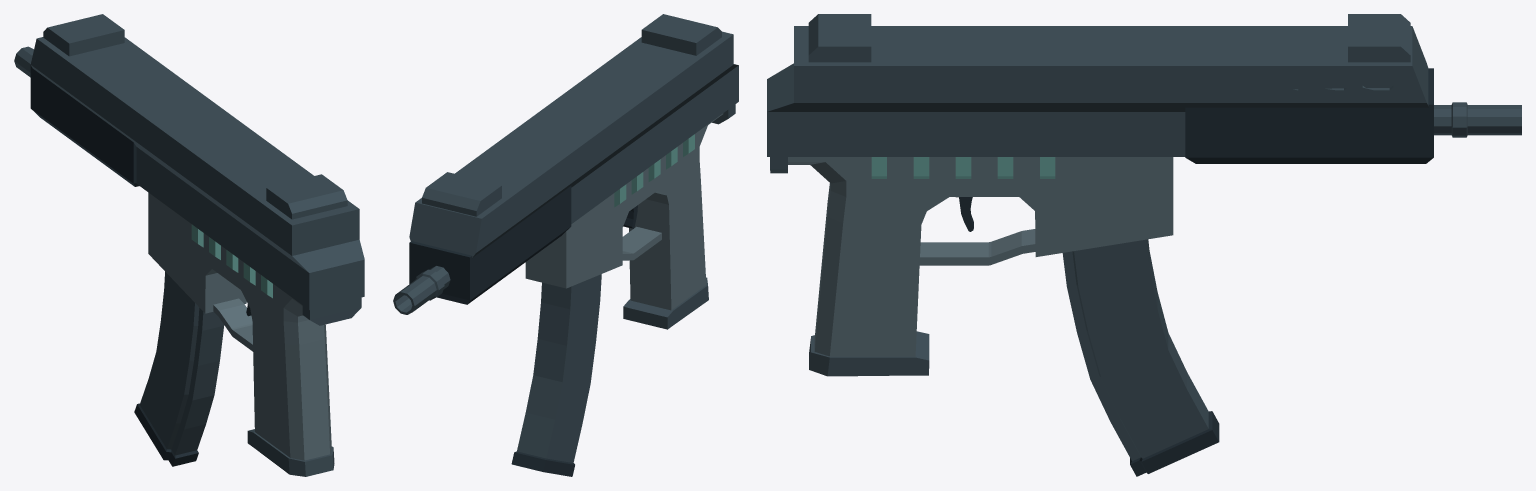
The model's file is espectro.glb.
3 renders of one model, left to right at view 1: azimuth 30°, elevation 25°; view 2: azimuth 150°, elevation 25°; view 3: azimuth 270°, elevation 25°, orthographic. The views are drawn at different scales.
Visible parts, largest first — view 1: espectro; view 2: espectro; view 3: espectro.
Boxes of the visible parts, <box> form: espectro: <box>14,14,364,476</box>; espectro: <box>393,14,738,476</box>; espectro: <box>767,14,1521,476</box>.
Bounding box in the file's own units: 0.1083 × 0.5569 × 0.8668.
